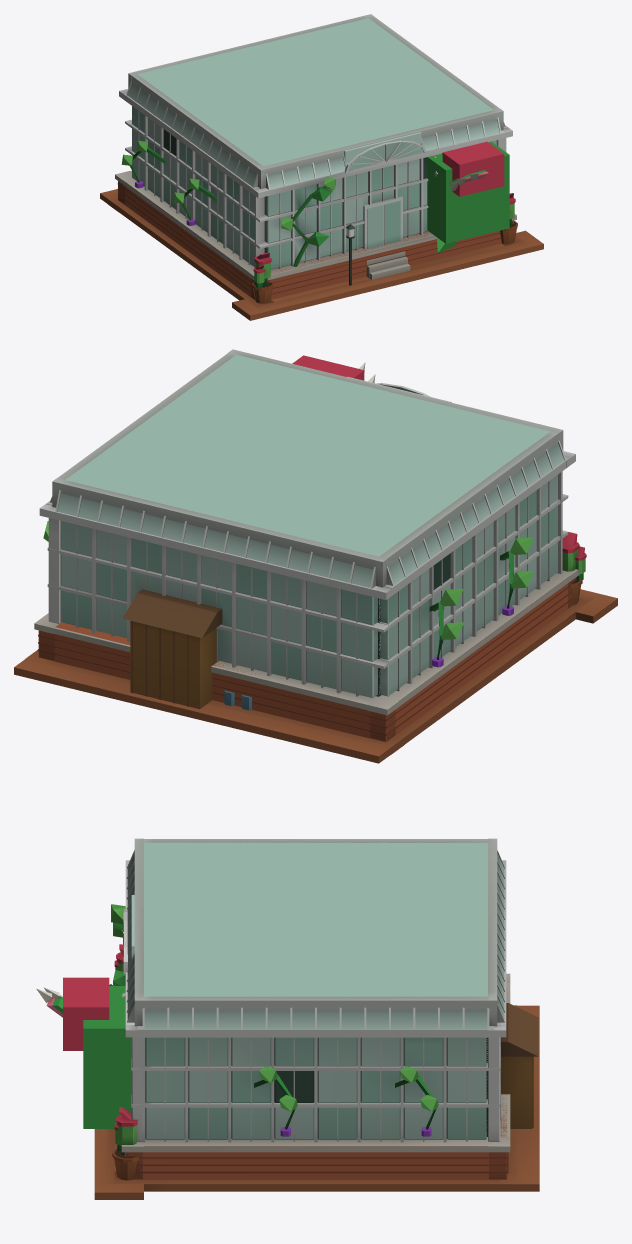
The model's file is MonsterFlowerFloor.fbx.
3 renders of one model, top to bottom at view 1: azimuth 30°, elevation 25°; view 2: azimuth 150°, elevation 25°; view 3: azimuth 270°, elevation 25°, orthographic. The views are drawn at different scales.
Visible parts, largest first — view 1: MF_S_All, MF_F_Smooth, MF_F_Rings, MF_F_Quiet, MF_F_Props; view 2: MF_S_All, MF_F_Rings, MF_F_Smooth, MF_F_Quiet, MF_F_Props; view 3: MF_S_All, MF_F_Rings, MF_F_Smooth, MF_F_Quiet, MF_F_Props.
Part boxes in pixels (box(x1,y1,x2,y2)): MF_S_All: box(118, 18, 513, 299); MF_F_Smooth: box(100, 81, 543, 320); MF_F_Rings: box(115, 14, 516, 299); MF_F_Quiet: box(100, 83, 543, 315); MF_F_Props: box(121, 140, 516, 303); MF_S_All: box(38, 355, 572, 742); MF_F_Rings: box(34, 349, 577, 741); MF_F_Smooth: box(14, 362, 617, 763); MF_F_Quiet: box(14, 443, 617, 756); MF_F_Props: box(43, 521, 585, 710); MF_S_All: box(63, 842, 507, 1184); MF_F_Rings: box(121, 838, 538, 1179); MF_F_Smooth: box(36, 850, 539, 1199); MF_F_Quiet: box(94, 854, 539, 1192); MF_F_Props: box(46, 904, 438, 1180).
Bounding box in the file's own units: 60 × 20 × 60.
